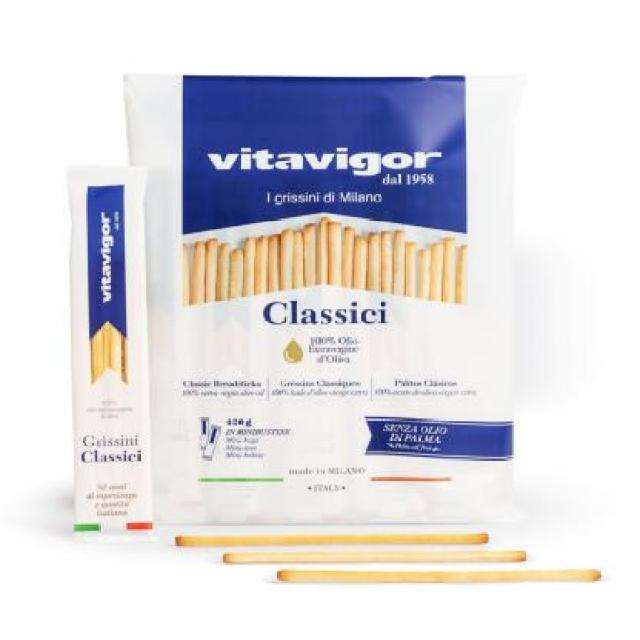Grissini: (274, 564, 604, 586), (222, 548, 530, 567), (167, 532, 490, 546)
